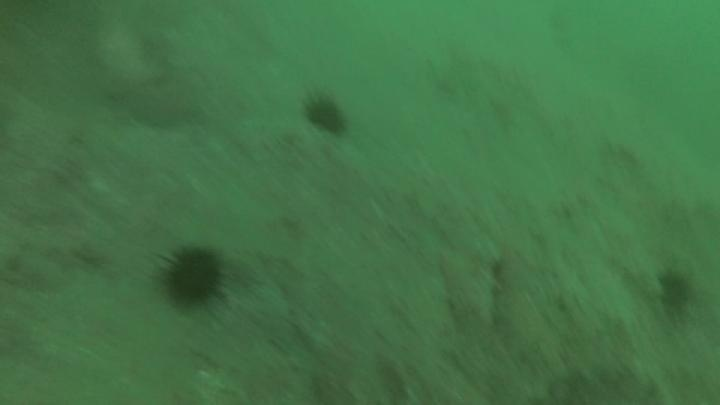echinus: (155, 242, 229, 311), (301, 92, 350, 138), (654, 267, 695, 318)
holothurian: (437, 233, 506, 328)
